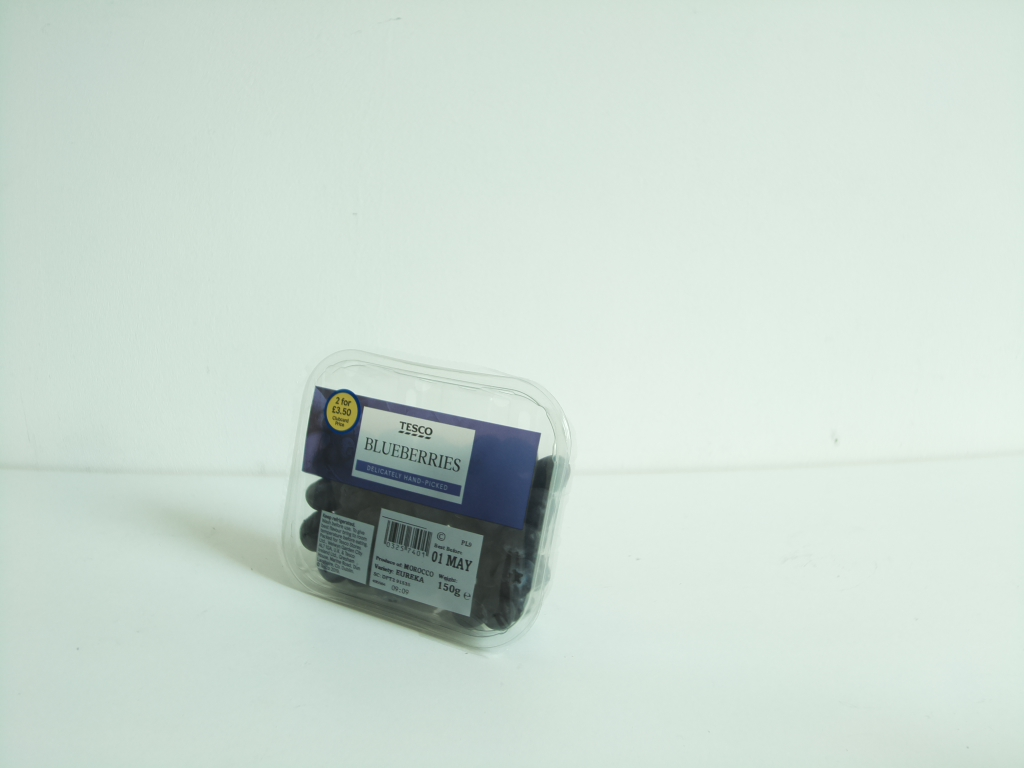soft-fruit: (282, 347, 570, 654)
